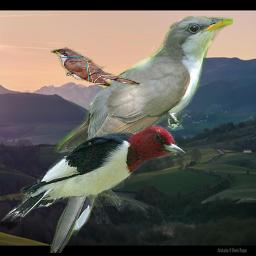Cuckoo: (50, 16, 233, 253), (50, 46, 142, 90)
Woodpecker: (1, 117, 193, 229)
